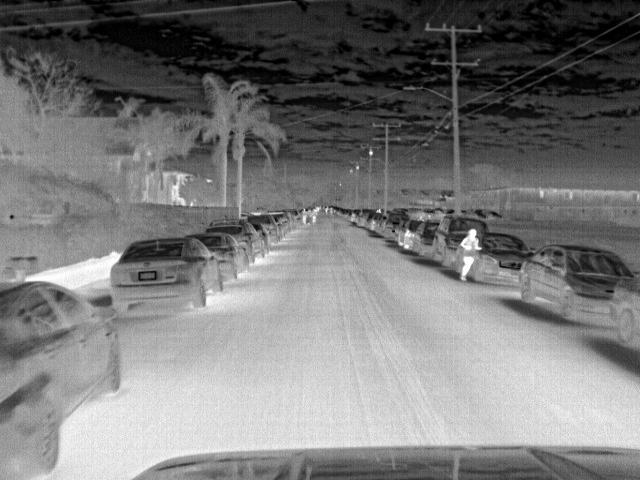car: (1, 280, 124, 478), (108, 235, 232, 317), (514, 244, 630, 322), (431, 215, 491, 274), (186, 235, 253, 283), (471, 232, 530, 282), (605, 276, 640, 352), (205, 221, 263, 264), (410, 221, 439, 257), (244, 212, 278, 241), (400, 220, 419, 248), (252, 224, 271, 250), (383, 216, 405, 238), (357, 209, 373, 227), (367, 214, 382, 230), (349, 208, 363, 222)
person: (456, 229, 483, 278)
